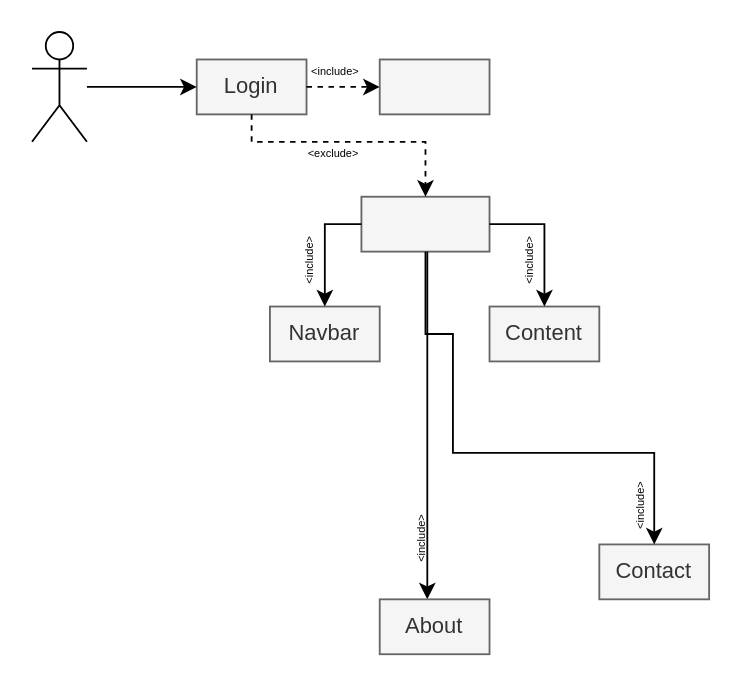
This 741x686 diagram has some shape labels left out. The shapes that lost their labels are listed below. From the top down, each one's centre as x and y in pixels, then its label:
[58,86]: Actor
[434,86]: Register
[425,223]: Homepage
